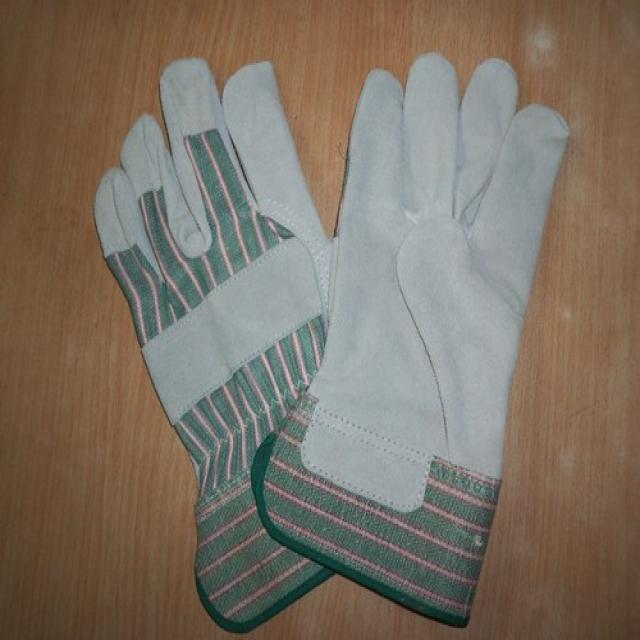gloves: (251, 53, 571, 626), (92, 56, 343, 632)
